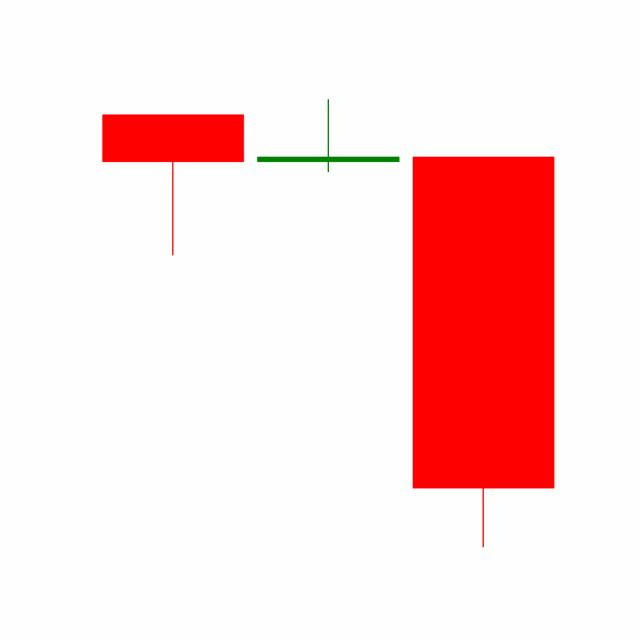Spinning Top: (249, 98, 406, 173)
